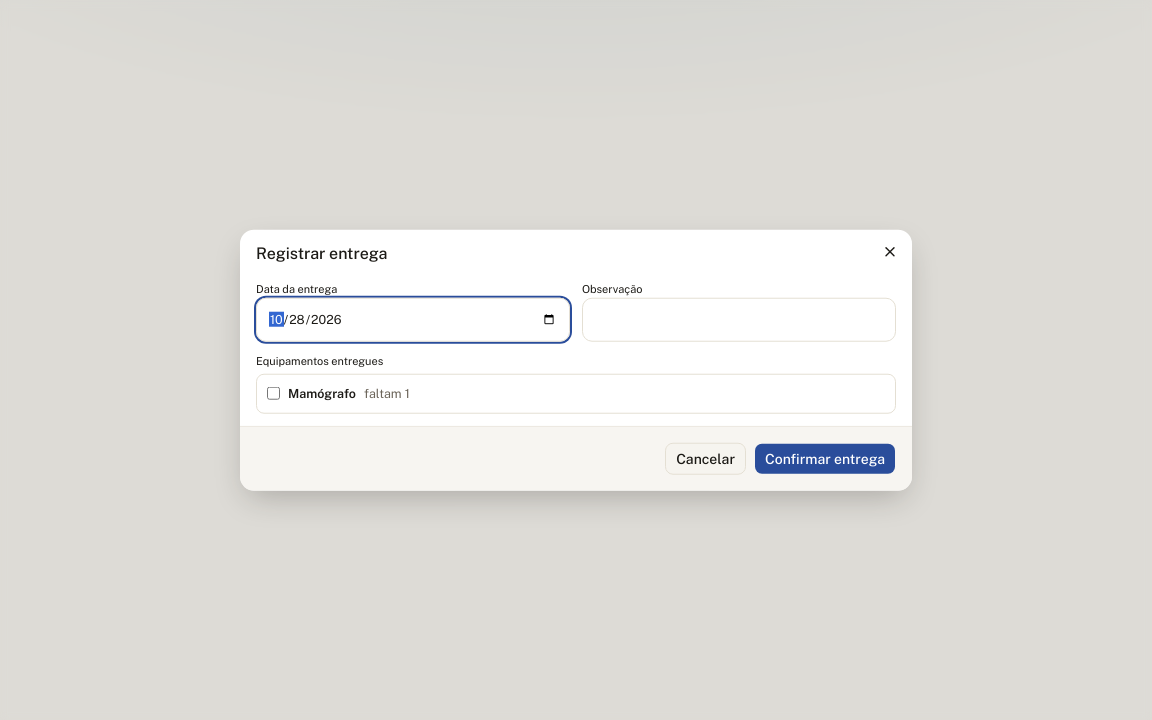
Test: form de registrar entrega › exige marcar pelo menos um equipamento
Click the button "Confirmar entrega". click: (825, 458)
box: left=754, top=442, right=896, bottom=474
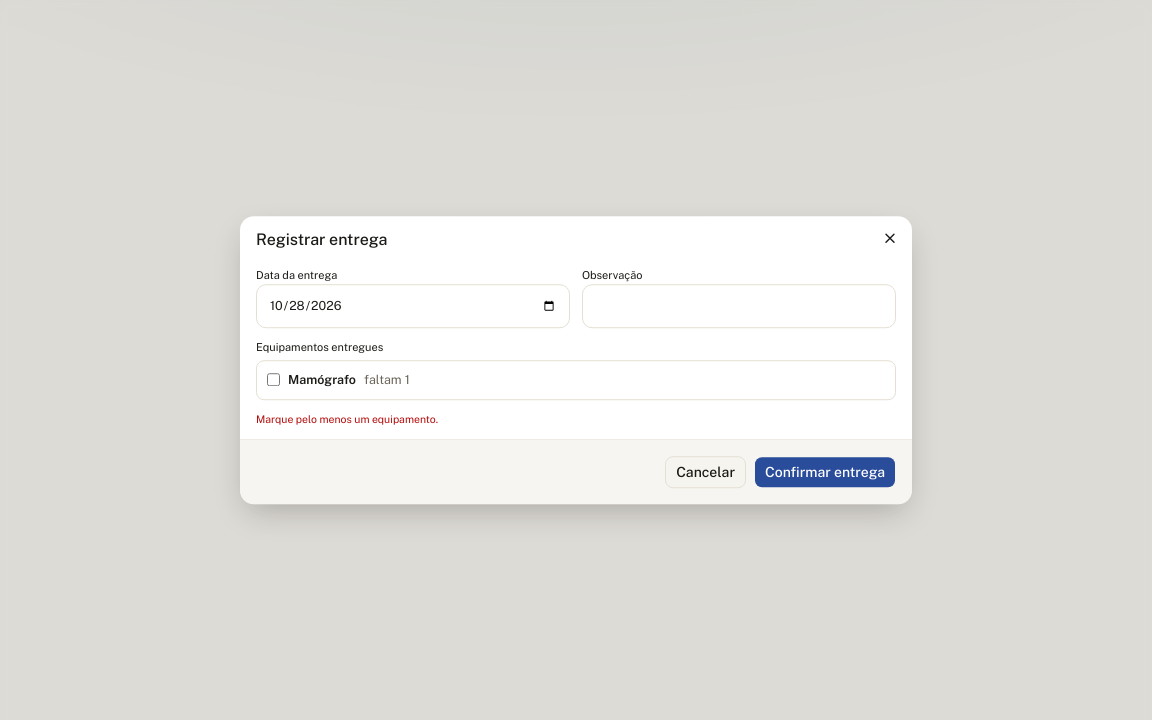
Now the text "Marque pelo menos um equipamento." is shown, box left=256, top=413, right=438, bottom=425
